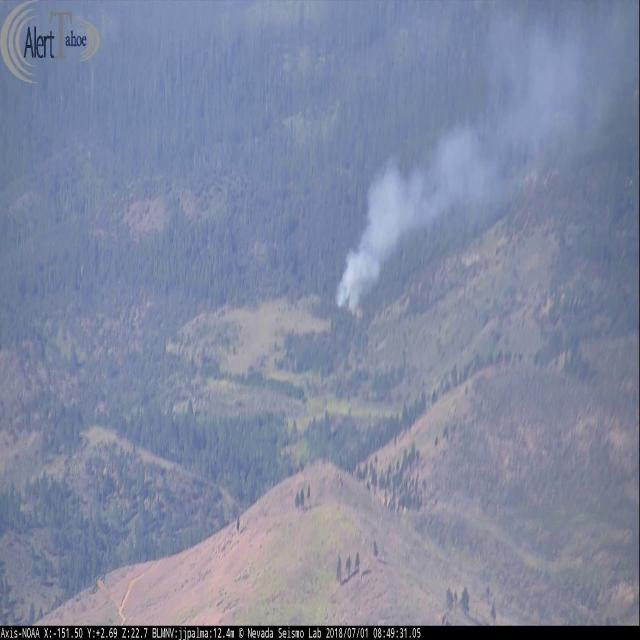smoke: (333, 98, 551, 320)
